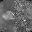people: (2, 11, 15, 21)
